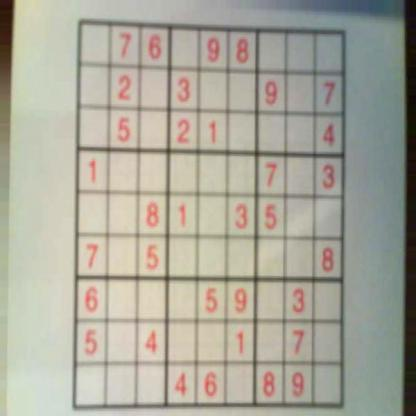sudoku: (67, 12, 353, 414)
